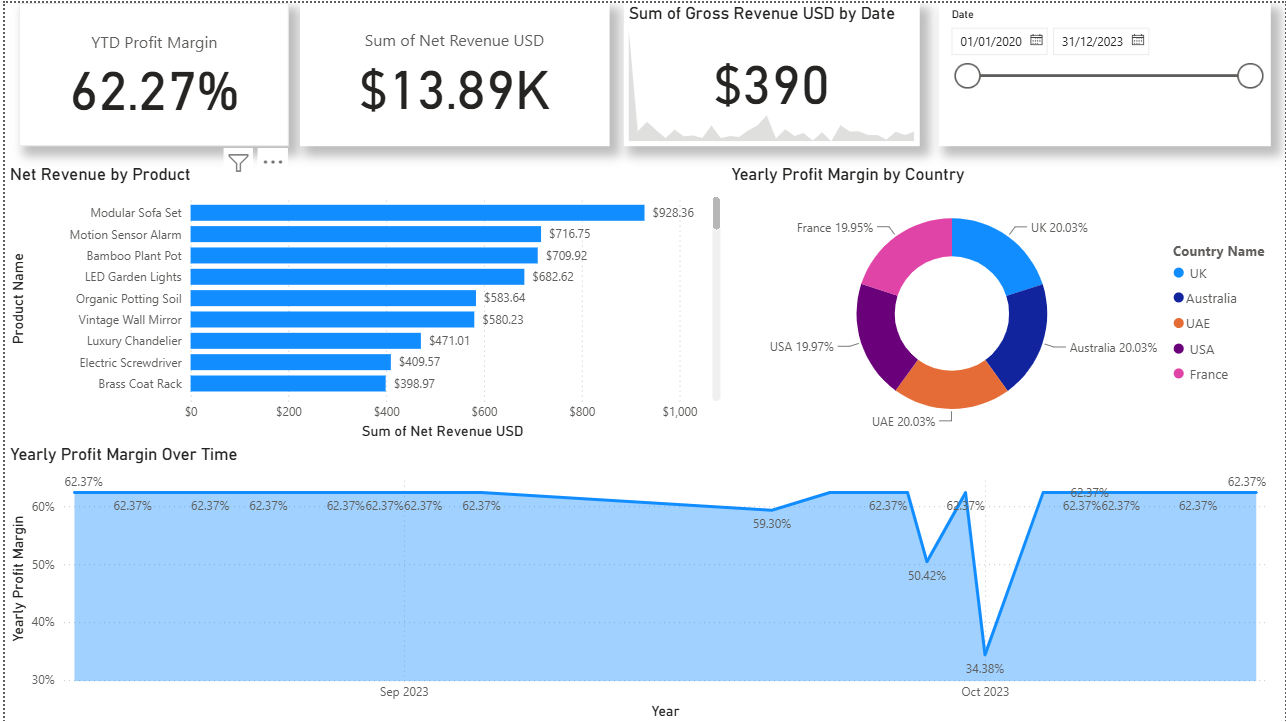

The page's visual inventory and layout, read from the dashboard file:
{"tool":"powerbi","page":{"name":"Profit Overview","canvas":[1280,720],"ordinal":1},"visuals":[{"type":"clusteredBarChart","title":"Net Revenue by Product","fields":{"Category":["Sales in USD.Product Name"],"Y":["Sum(Sales in USD.Net Revenue USD)"]},"box":[0,160.9,720.6,279.9],"z":0},{"type":"donutChart","title":"Yearly Profit Margin by Country","fields":{"Category":["Sales in USD.Country Name"],"Y":["Sales in USD.Yearly Profit Margin"]},"box":[720.6,160.9,559.7,279.9],"z":1000},{"type":"areaChart","title":"Yearly Profit Margin Over Time","fields":{"Y":["Sales in USD.Yearly Profit Margin"],"Category":["CalendarTable.Date.Variation.Date Hierarchy.Year","CalendarTable.Date.Variation.Date Hierarchy.Quarter","CalendarTable.Date.Variation.Date Hierarchy.Month","CalendarTable.Date.Variation.Date Hierarchy.Day"]},"box":[0,440.8,1280.4,279.9],"z":2000},{"type":"cardVisual","fields":{"Data":["Sales in USD.YTD Profit Margin"]},"box":[14,0,269.4,143.4],"z":3000},{"type":"cardVisual","fields":{"Data":["Sum(Sales in USD.Net Revenue USD)"]},"box":[295.6,0,309.6,143.4],"z":4000},{"type":"kpi","fields":{"Indicator":["Sum(Sales in USD.Gross Revenue USD)"],"TrendLine":["CalendarTable.Date"]},"box":[619.2,0,295.6,143.4],"z":5000},{"type":"slicer","fields":{"Values":["CalendarTable.Date"]},"box":[934,0,332.3,143.4],"z":6000}]}

Visuals, with their boxes in screenshot pixels (x1, y1, x2, y2), scaled from the page's 1280x720 canvas onto the 1286x722 screenshot:
"Net Revenue by Product" clusteredBarChart: {"x1": 0, "y1": 161, "x2": 724, "y2": 442}
"Yearly Profit Margin by Country" donutChart: {"x1": 724, "y1": 161, "x2": 1285, "y2": 442}
"Yearly Profit Margin Over Time" areaChart: {"x1": 0, "y1": 442, "x2": 1285, "y2": 721}
cardVisual - Sales in USD.YTD Profit Margin: {"x1": 14, "y1": 0, "x2": 285, "y2": 144}
cardVisual - Sum(Sales in USD.Net Revenue USD): {"x1": 297, "y1": 0, "x2": 608, "y2": 144}
kpi - Sum(Sales in USD.Gross Revenue USD) x CalendarTable.Date: {"x1": 622, "y1": 0, "x2": 919, "y2": 144}
slicer - CalendarTable.Date: {"x1": 938, "y1": 0, "x2": 1272, "y2": 144}
